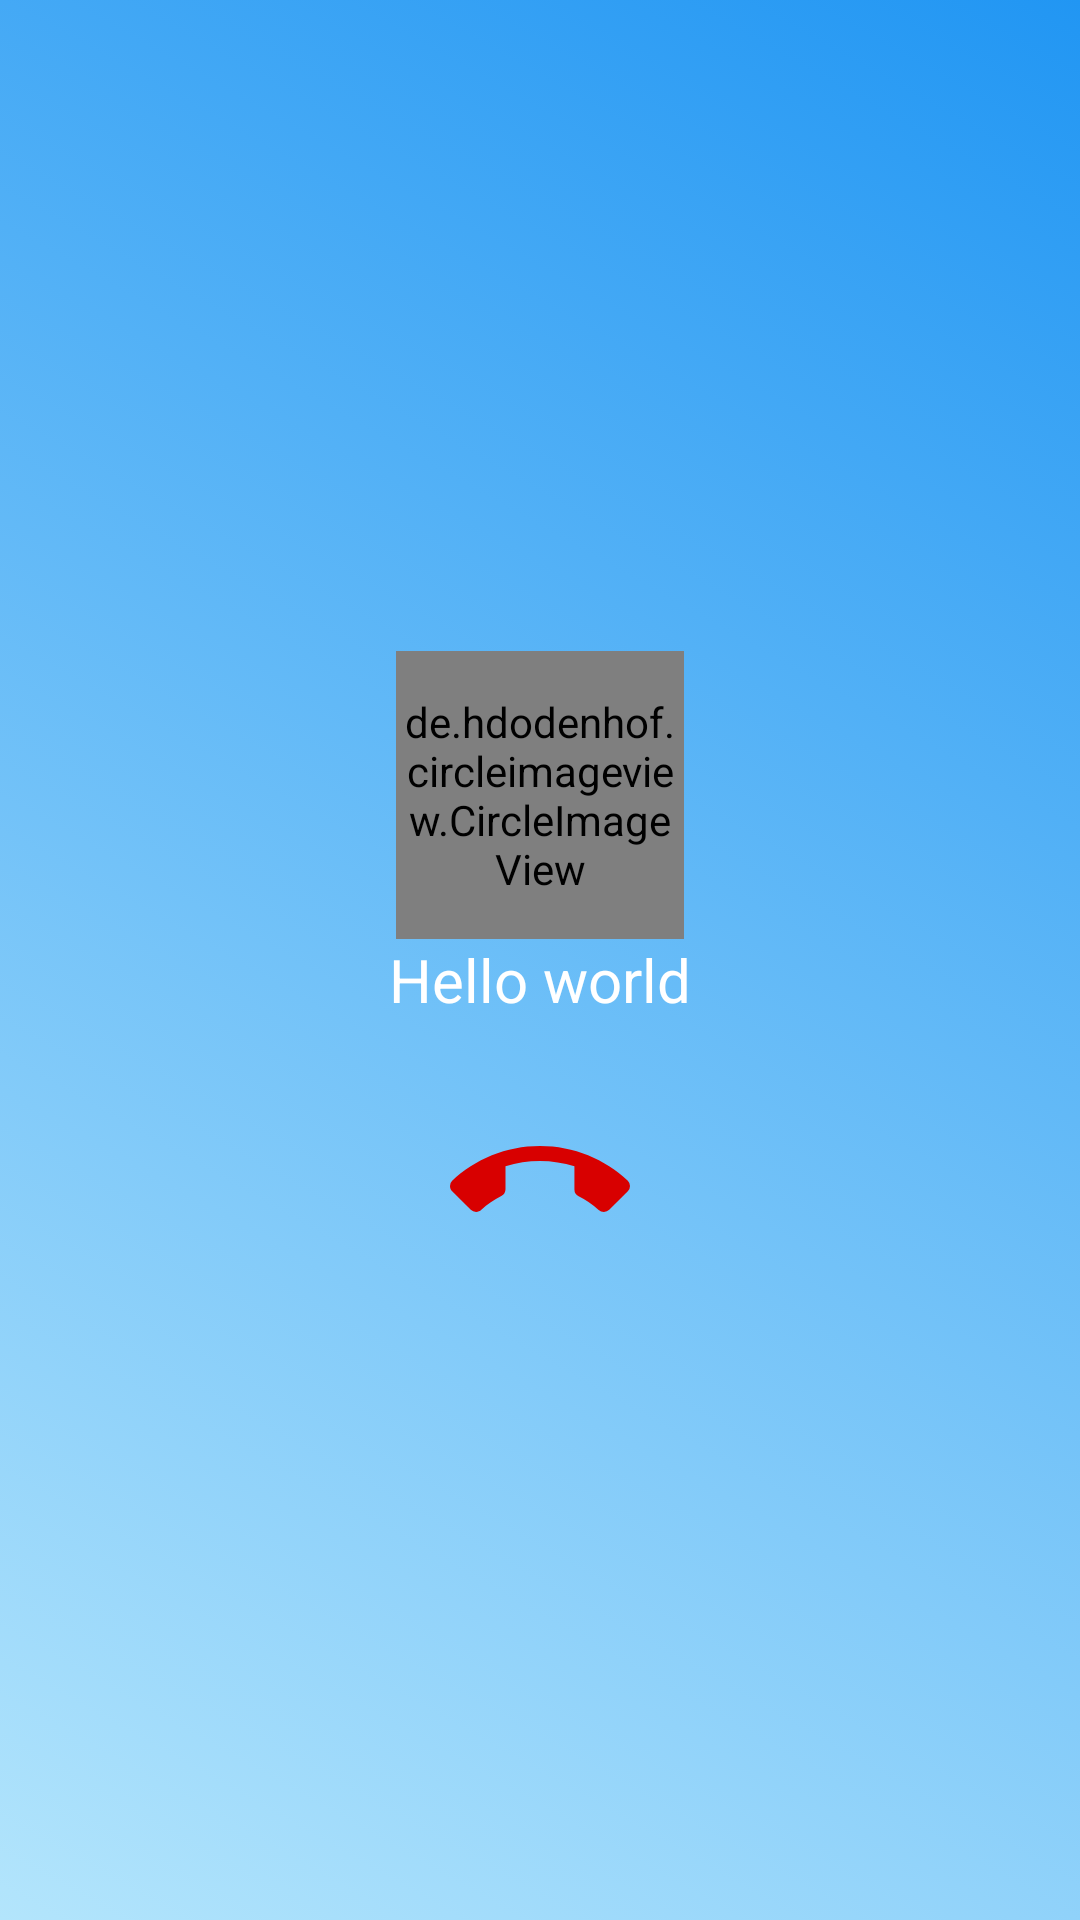

Icon click points for this 1080 x 1920 phone screenshot, format point (x, y):
call dismiss: point (540, 1179)
